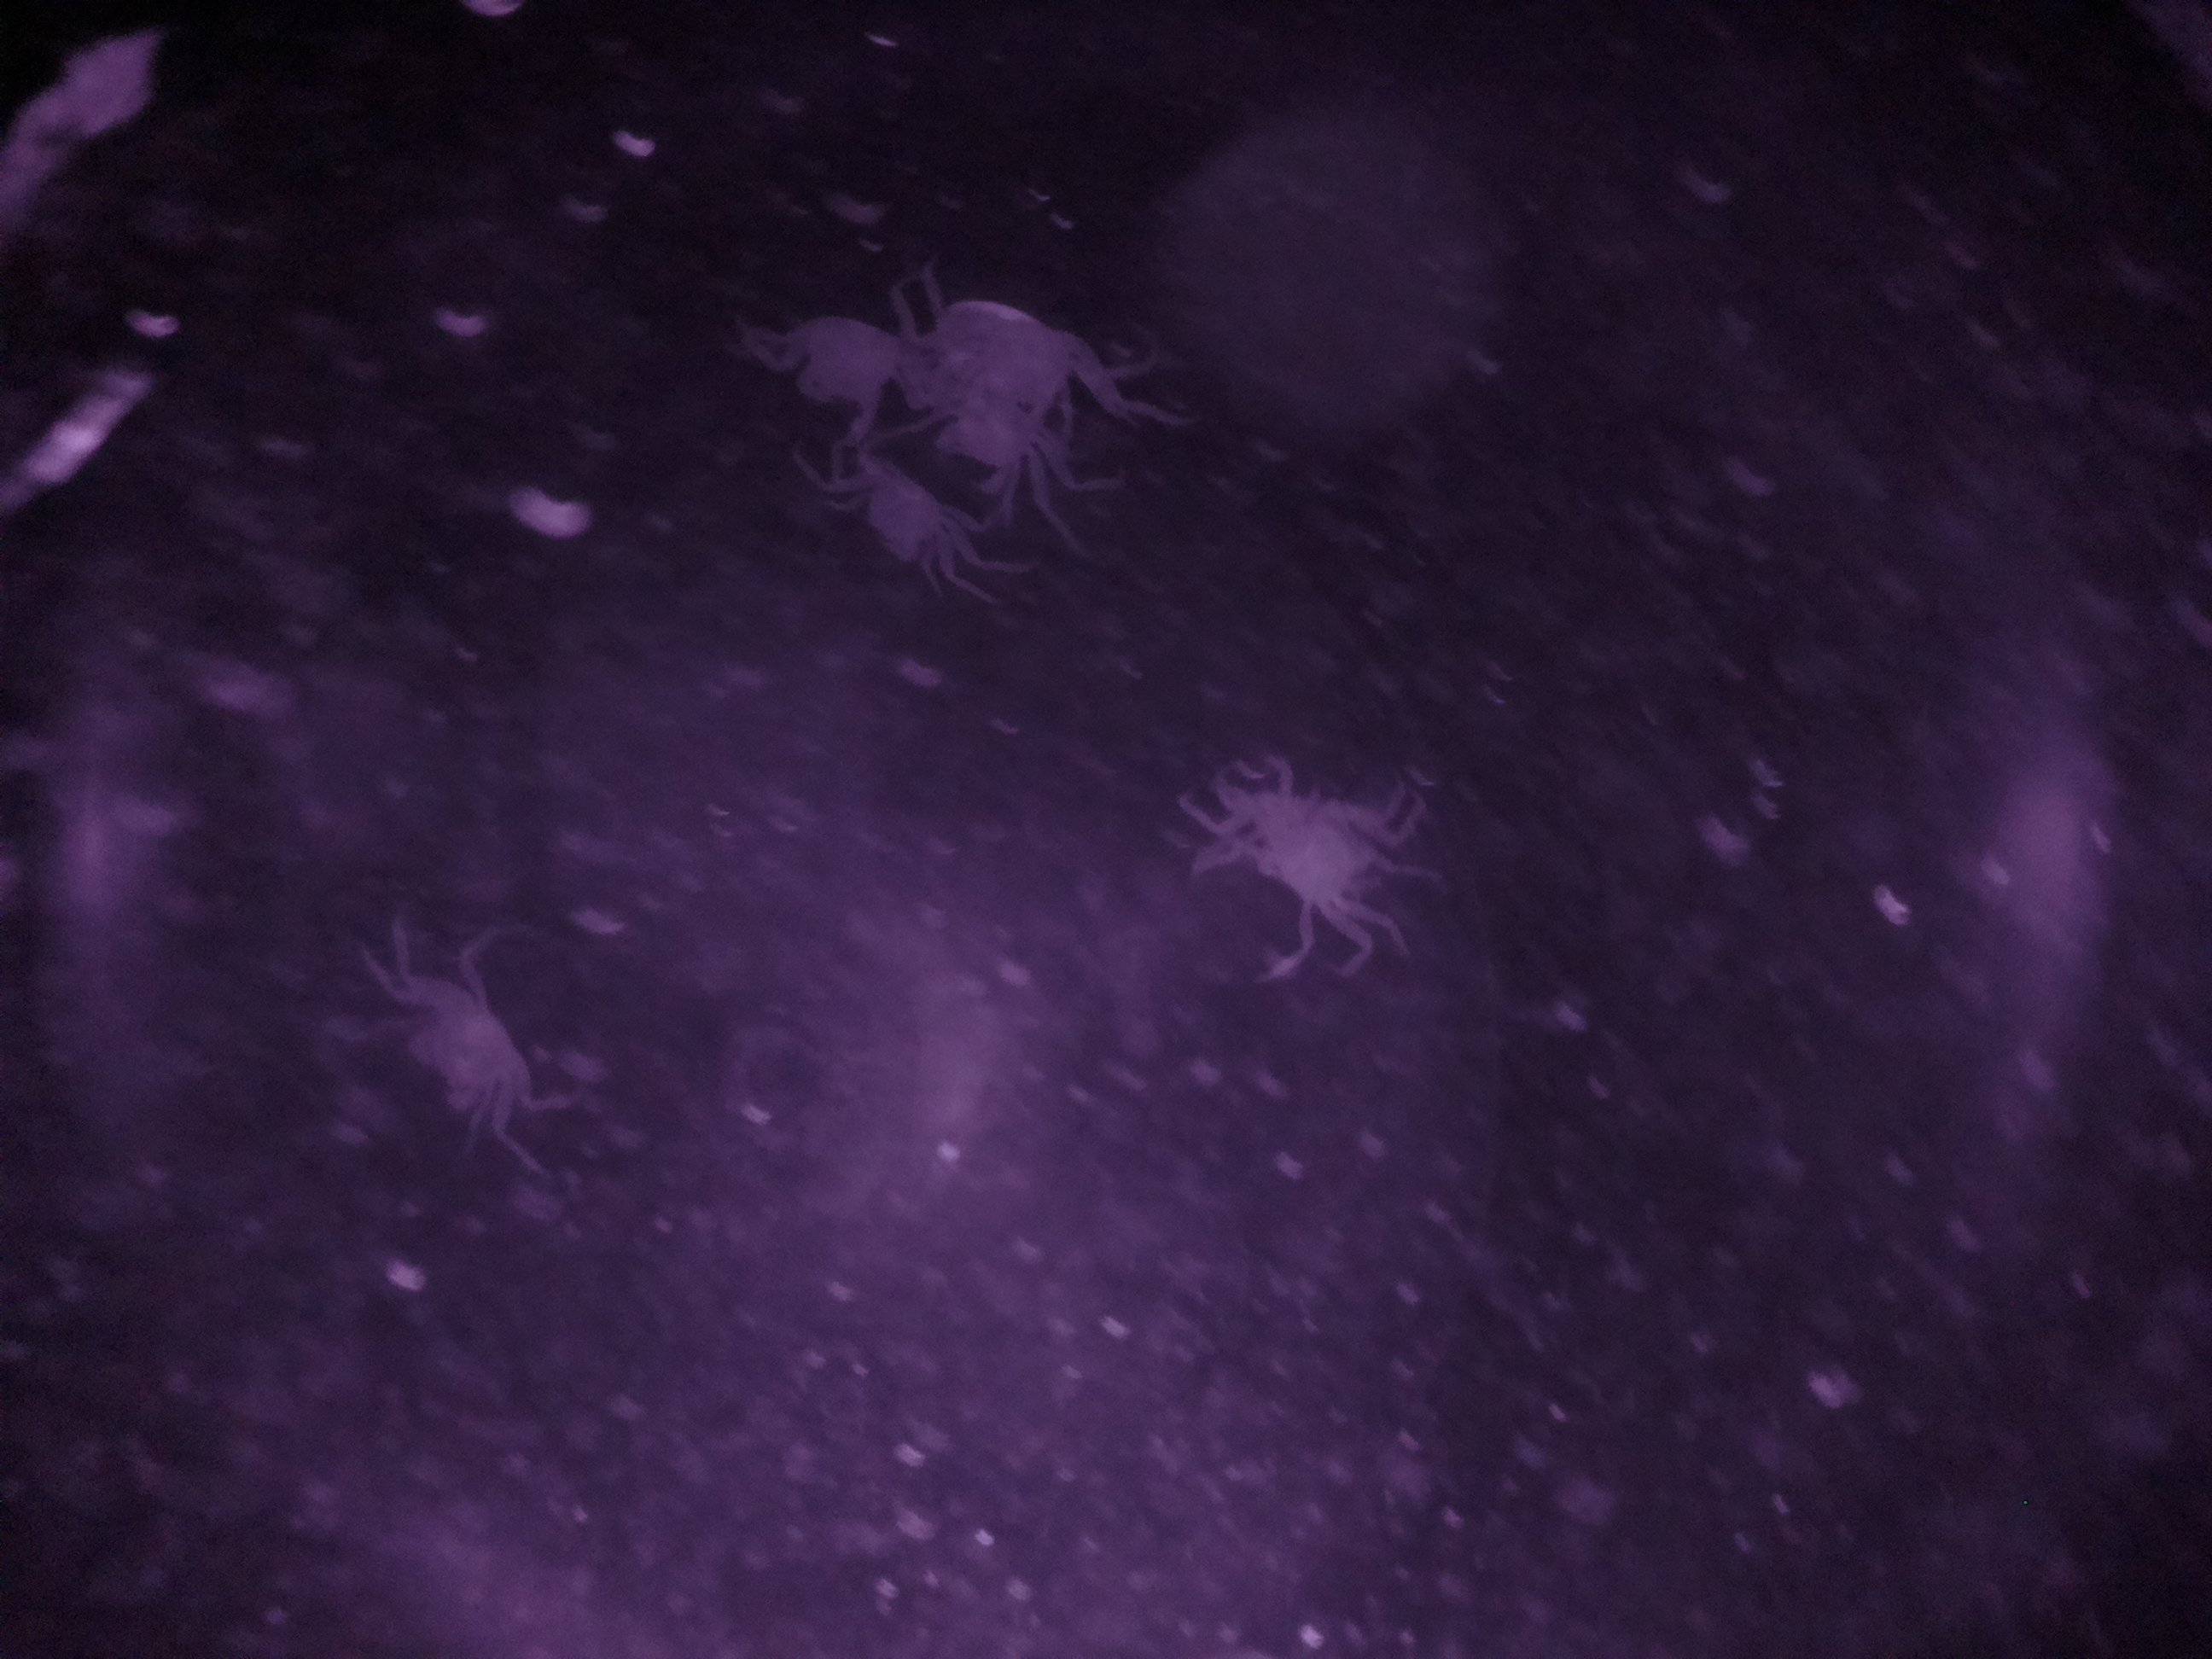Crab: (817, 432, 1001, 603)
